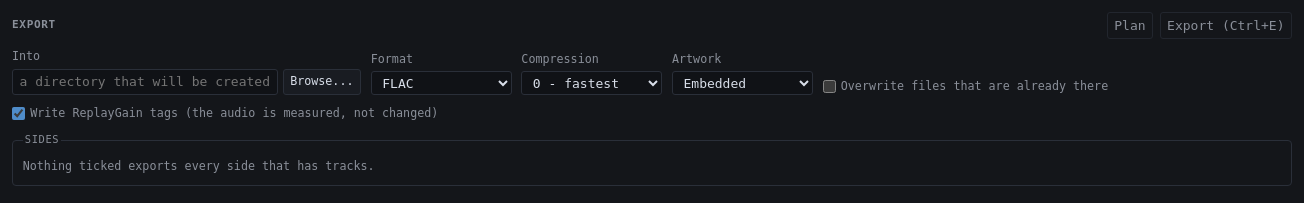
Scenario: the export panel › has a browse button, so the directory need not be typed
Click the button "Browse..." at (322, 82), box top-left (283, 69), bottom-right (361, 95)
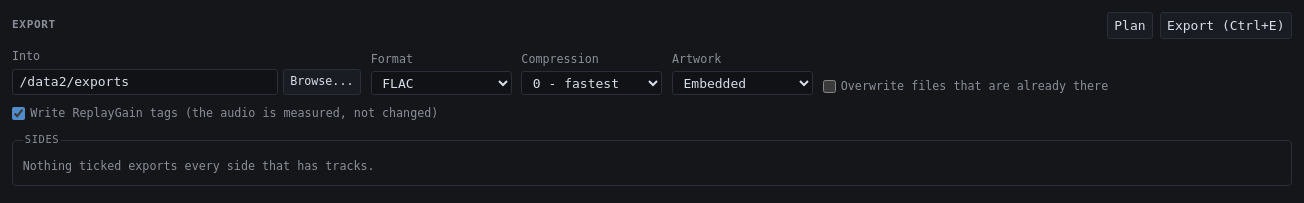
Check: the field with class "wide" holds "/data2/exports", box top-left (12, 69), bottom-right (278, 95)
